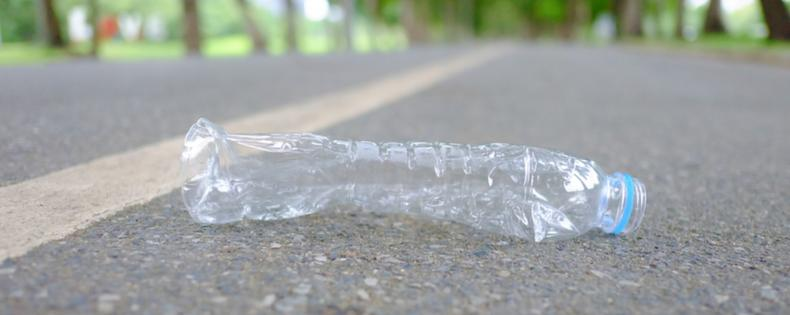Plastic: (173, 111, 650, 262)
